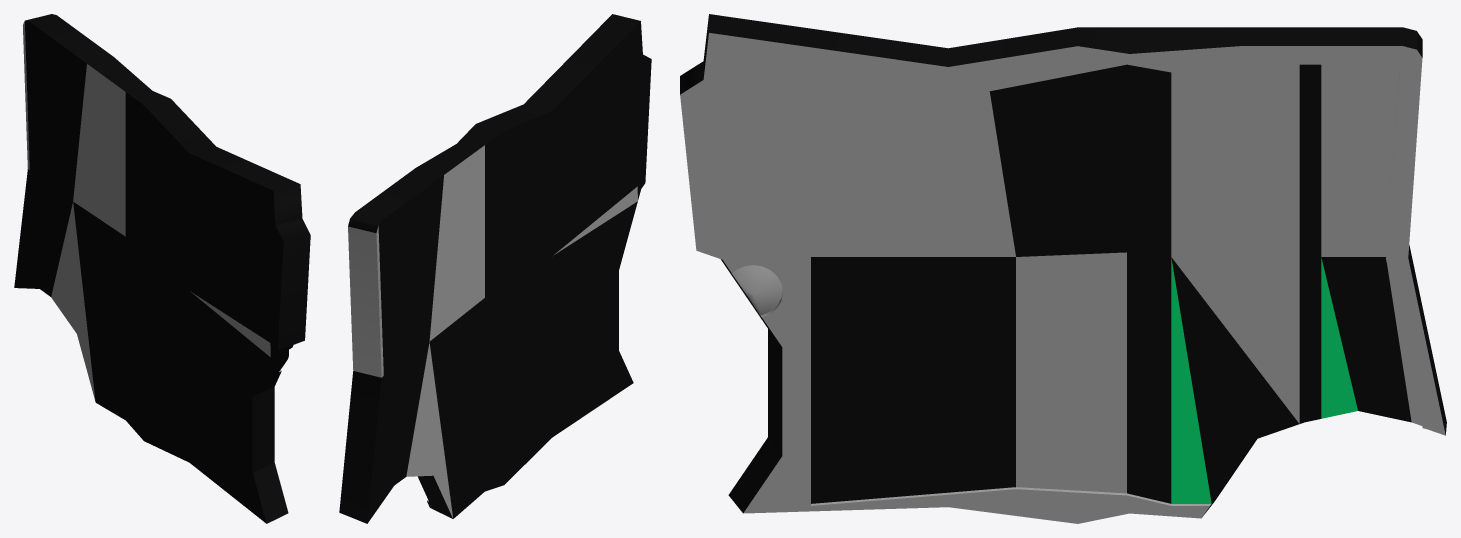
Rendered from Tablet_VeryDamaged_FBX.fbx.
The picture shows the model from 3 angles, left to right: view 1: azimuth 30°, elevation 25°; view 2: azimuth 150°, elevation 25°; view 3: azimuth 270°, elevation 25°; orthographic projection. The views are drawn at different scales.
Parts seen in each view (by area): view 1: Tablet_VeryDamaged; view 2: Tablet_VeryDamaged; view 3: Tablet_VeryDamaged.
Part boxes in pixels (bbox=[...]): Tablet_VeryDamaged: bbox=[14, 14, 310, 523]; Tablet_VeryDamaged: bbox=[339, 14, 651, 523]; Tablet_VeryDamaged: bbox=[680, 14, 1446, 523].
Size of the model in its own units: 0.0548 by 0.6102 by 0.8634.
